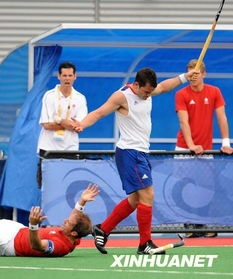falling: (0, 174, 108, 258)
